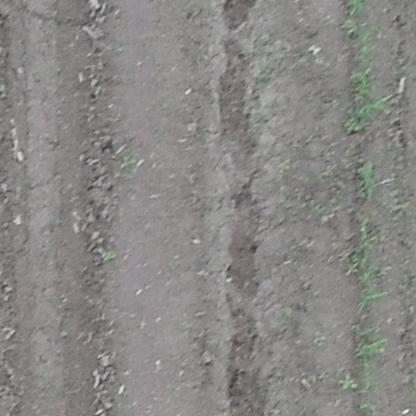corn: (343, 218, 398, 362), (347, 16, 386, 129), (356, 160, 379, 199)
